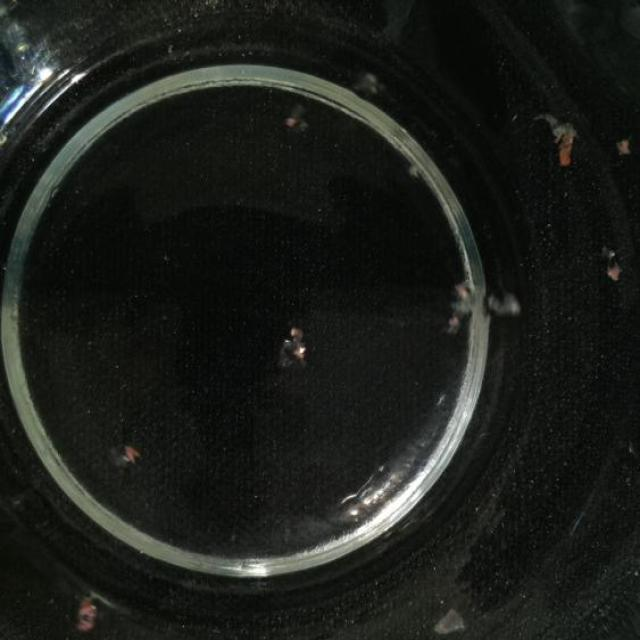fiber: (427, 278, 532, 338), (64, 578, 128, 639), (541, 101, 582, 179), (268, 316, 320, 373), (598, 242, 637, 284), (114, 432, 149, 474), (352, 63, 384, 104), (280, 104, 309, 144), (616, 125, 639, 166)
